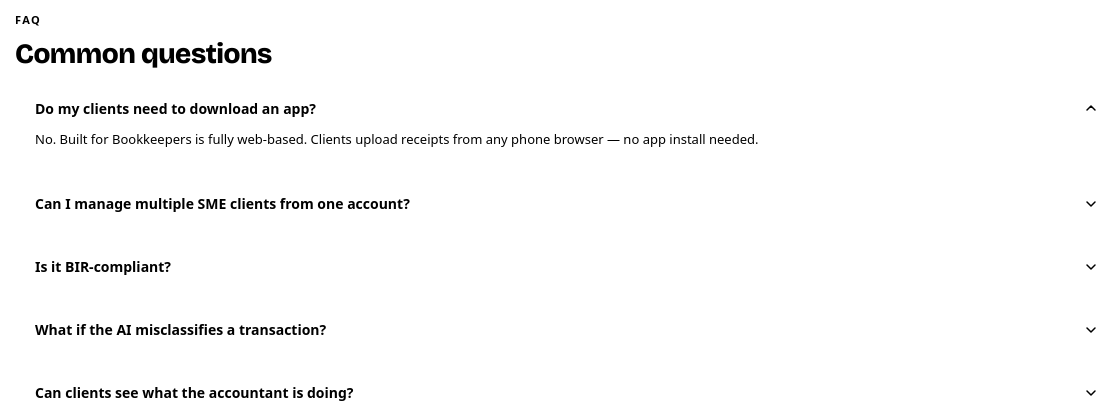
FAQSection › clicking a closed item opens it
This screenshot has width=1116, height=418.
Click the button "Can I manage multiple SME clients from one account?": (222, 204) x1=35 y1=193 x2=1099 y2=214
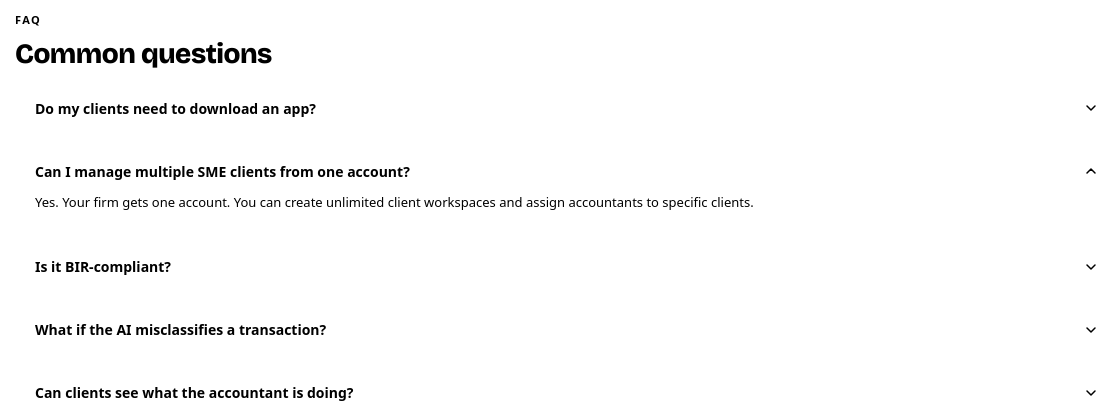
Expected: the button "Can I manage multiple SME clients from one account?" is expanded, x1=35 y1=160 x2=1099 y2=182
